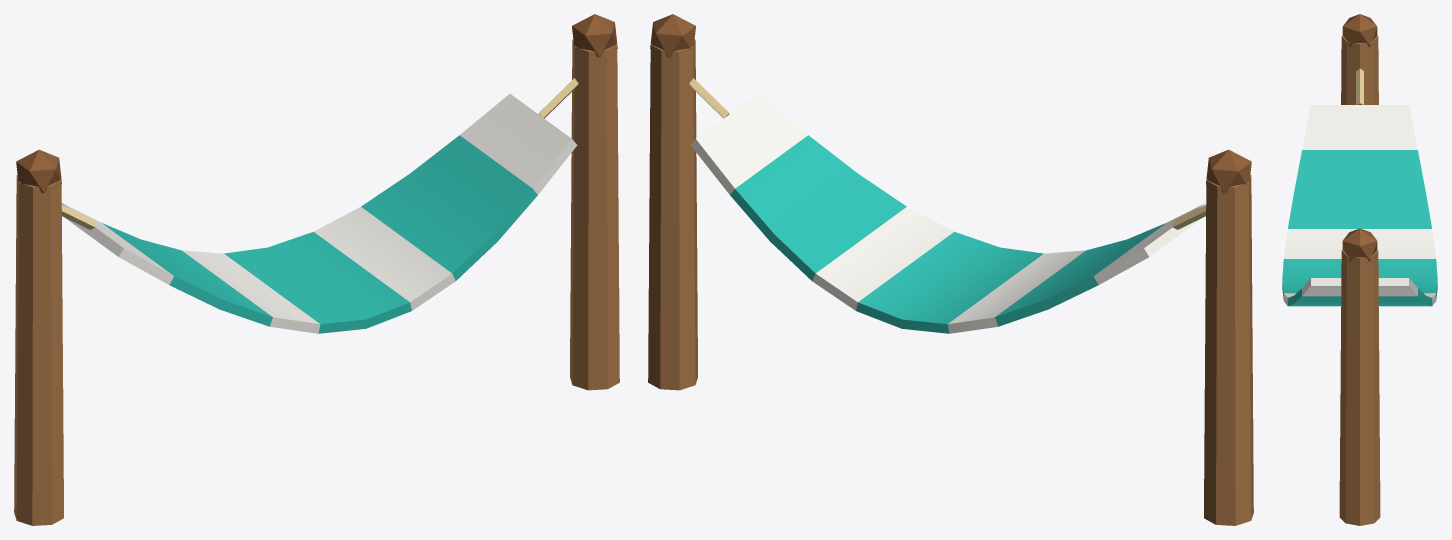
The model's file is home_hammock.fbx.
3 views of the same model, side by side, from view 1: azimuth 30°, elevation 25°; view 2: azimuth 150°, elevation 25°; view 3: azimuth 270°, elevation 25° (orthographic). The views are drawn at different scales.
Parts seen in each view (by area): view 1: home_hammock; view 2: home_hammock; view 3: home_hammock.
Boxes of the visible parts, x1,y1,x2,y2 form: home_hammock: (14,14,619,525); home_hammock: (648,14,1253,525); home_hammock: (1282,14,1437,525).
Size of the model in its own units: 1.34 by 0.78 by 0.38.
